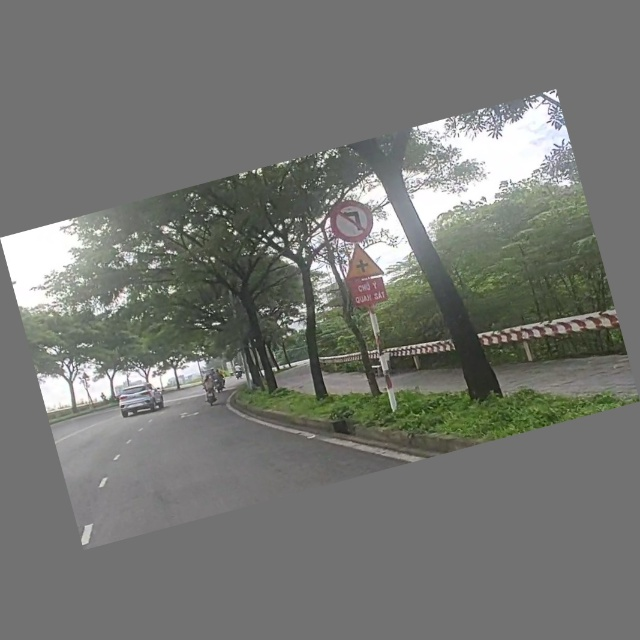P.123a: (325, 193, 383, 249)
W.205a: (337, 240, 387, 286)
